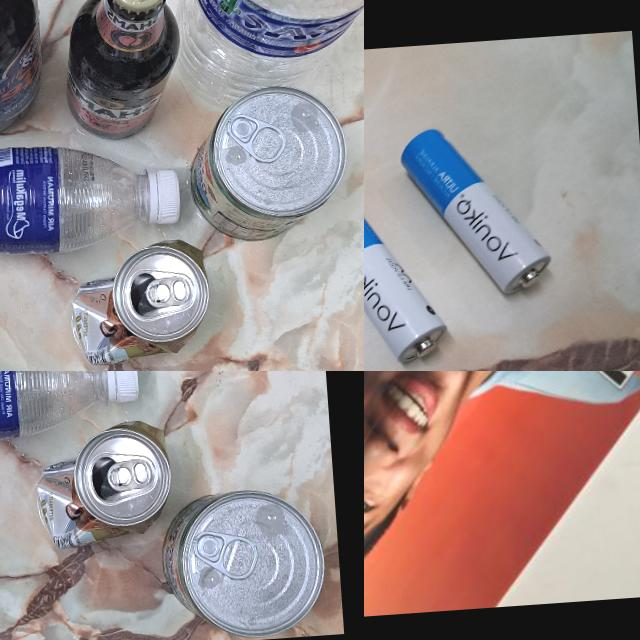aba de lata: (225, 110, 288, 168), (192, 528, 258, 583), (144, 272, 190, 310), (105, 458, 152, 490)
bateria: (397, 121, 552, 302), (364, 176, 454, 371)
garrafa de vidro: (55, 0, 181, 141)
garrafa plástica: (0, 134, 182, 263), (163, 0, 364, 114), (0, 371, 113, 451)
lata: (185, 80, 349, 243), (157, 484, 328, 640), (32, 426, 174, 550), (68, 245, 214, 365)
papel: (364, 371, 640, 636)
tampa plástica: (141, 166, 182, 227), (110, 371, 139, 402)
